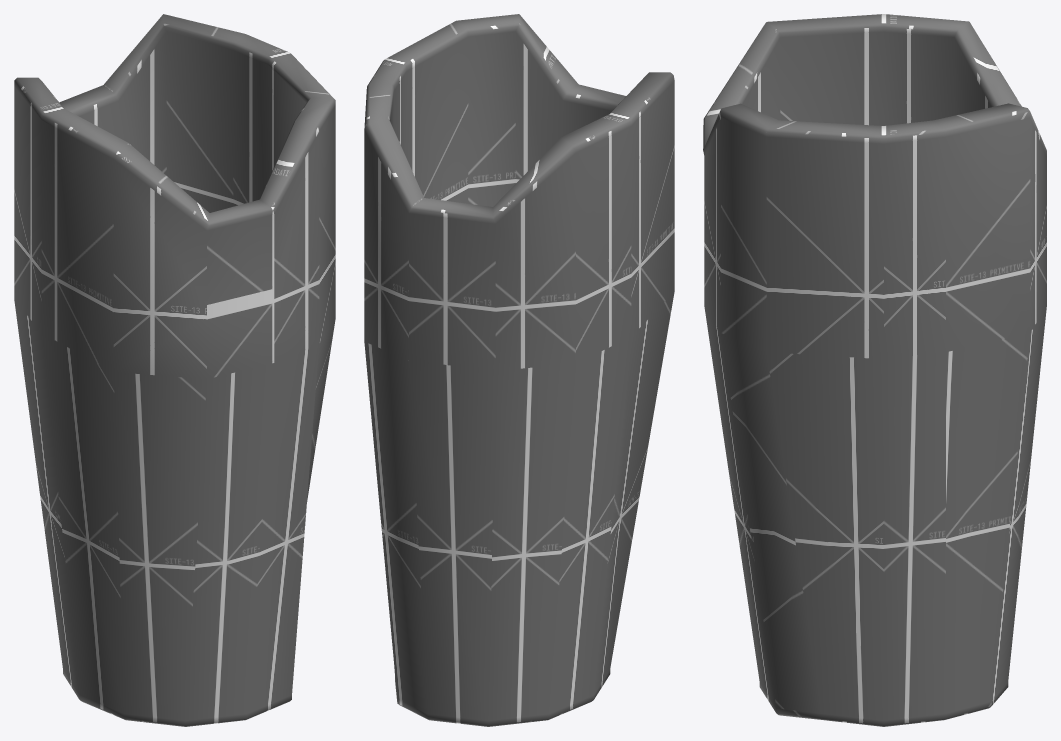
Rendered from Shin-Soldier.obj.
The picture shows the model from 3 angles, left to right: view 1: azimuth 30°, elevation 25°; view 2: azimuth 150°, elevation 25°; view 3: azimuth 270°, elevation 25°; orthographic projection. The views are drawn at different scales.
Parts seen in each view (by area): view 1: Shin-Soldier; view 2: Shin-Soldier; view 3: Shin-Soldier.
Boxes of the visible parts, left/top/right/bottom form: Shin-Soldier: left=14, top=14, right=335, bottom=726; Shin-Soldier: left=364, top=14, right=674, bottom=726; Shin-Soldier: left=703, top=14, right=1046, bottom=726.
Size of the model in its own units: 1.06 by 2.42 by 1.24.
